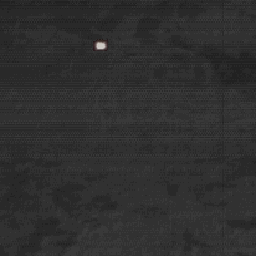Target: (94, 42, 105, 49)
